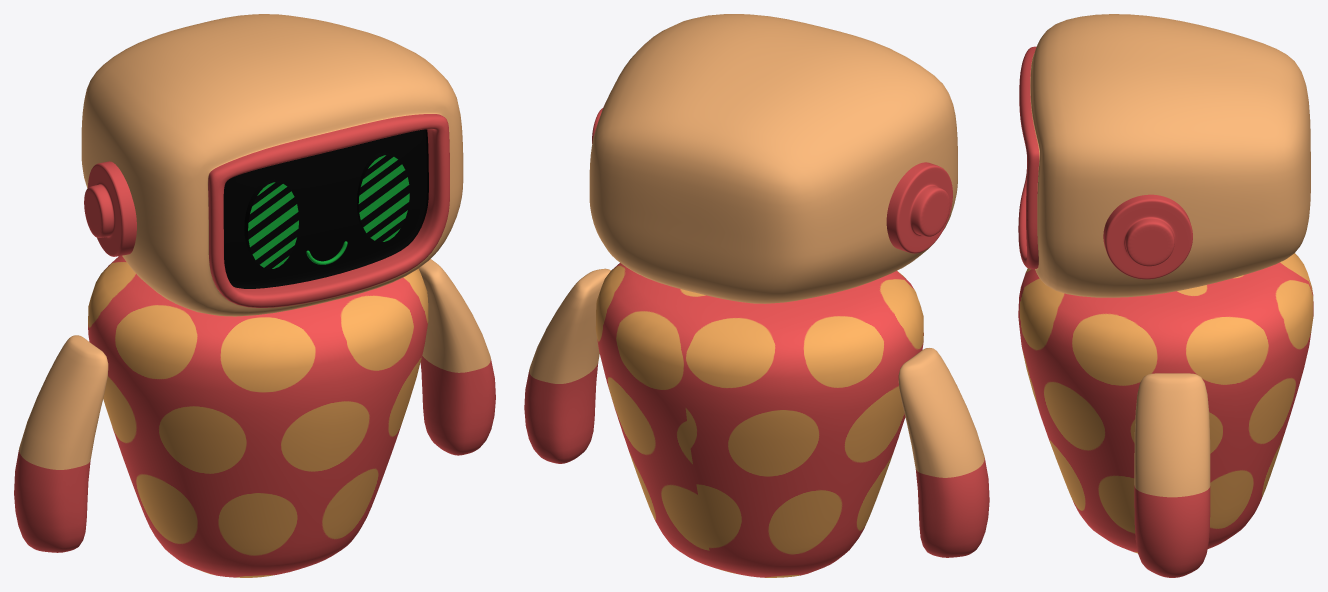
The model's file is PolkaDotBot.glb.
3 views of the same model, side by side, from view 1: azimuth 30°, elevation 25°; view 2: azimuth 150°, elevation 25°; view 3: azimuth 270°, elevation 25° (orthographic). The views are drawn at different scales.
Parts seen in each view (by area): view 1: Cube.005; view 2: Cube.005; view 3: Cube.005.
Boxes of the visible parts, x1,y1,x2,y2 form: Cube.005: (14, 14, 495, 577); Cube.005: (524, 14, 989, 577); Cube.005: (1018, 14, 1313, 577).
Bounding box in the file's own units: 3.65 × 3.85 × 2.12.
Materials: 6 (1 with a texture image).
